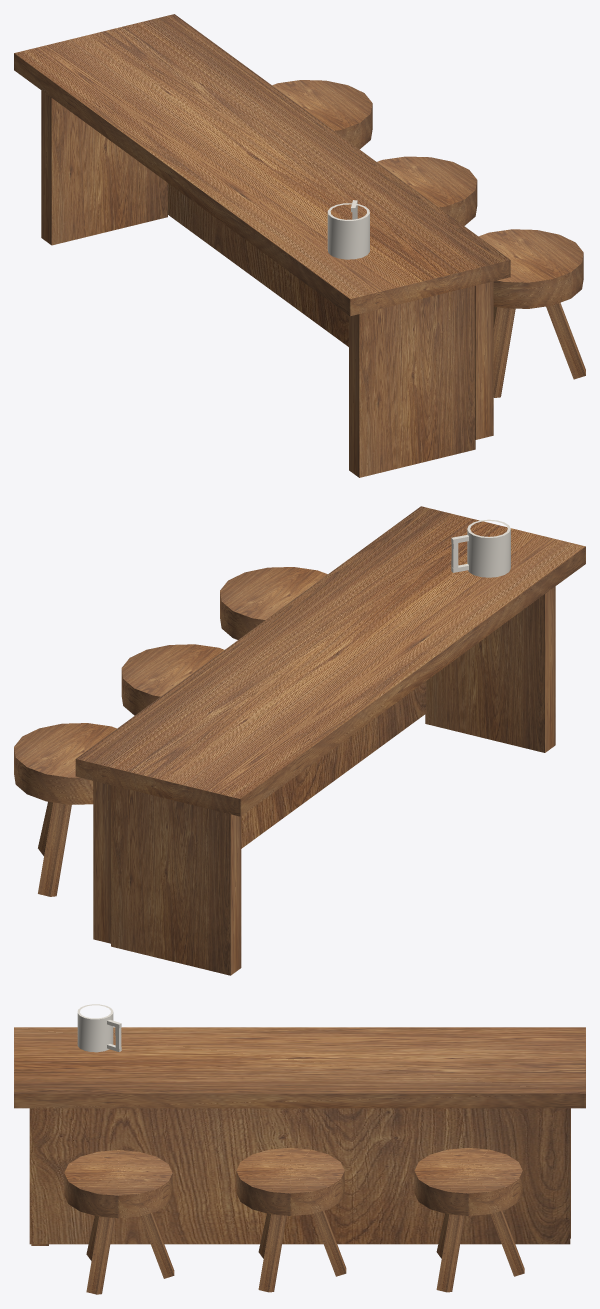
Rendered from background.mp4.gltf.
The picture shows the model from 3 angles, top to bottom: view 1: azimuth 30°, elevation 25°; view 2: azimuth 150°, elevation 25°; view 3: azimuth 270°, elevation 25°; orthographic projection. The views are drawn at different scales.
Visible parts, largest first — view 1: 바 테이블, 의자 1, 의자 2, 의자 3, 컵 1; view 2: 바 테이블, 의자 3, 의자 1, 의자 2, 컵 1; view 3: 바 테이블, 의자 2, 의자 1, 의자 3, 컵 1.
Boxes of the visible parts, left/top/right/bottom form: 바 테이블: left=14, top=14, right=510, bottom=477; 의자 1: left=479, top=229, right=585, bottom=397; 의자 2: left=377, top=156, right=477, bottom=225; 의자 3: left=272, top=80, right=372, bottom=149; 컵 1: left=327, top=200, right=369, bottom=259; 바 테이블: left=75, top=506, right=585, bottom=975; 의자 3: left=14, top=723, right=116, bottom=896; 의자 1: left=220, top=567, right=327, bottom=639; 의자 2: left=121, top=644, right=224, bottom=715; 컵 1: left=451, top=519, right=510, bottom=577; 바 테이블: left=14, top=1027, right=585, bottom=1245; 의자 2: left=236, top=1148, right=346, bottom=1292; 의자 1: left=64, top=1150, right=174, bottom=1294; 의자 3: left=414, top=1148, right=524, bottom=1292; 컵 1: left=77, top=1004, right=121, bottom=1052.
Bounding box in the file's own units: 270 × 208 × 548.
Materials: 2 (1 with a texture image).
